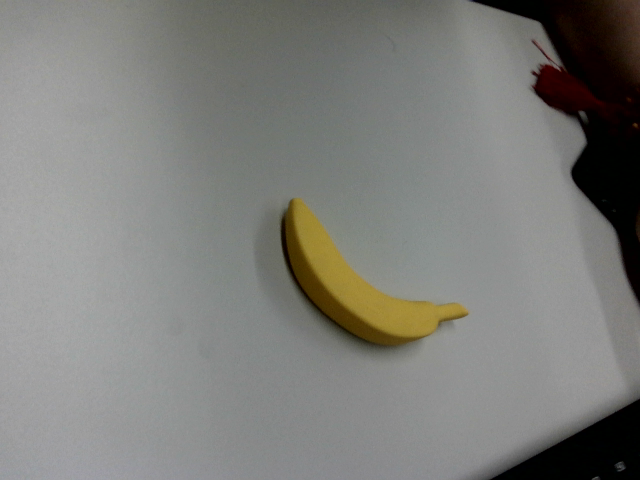banana: (248, 195, 469, 380)
